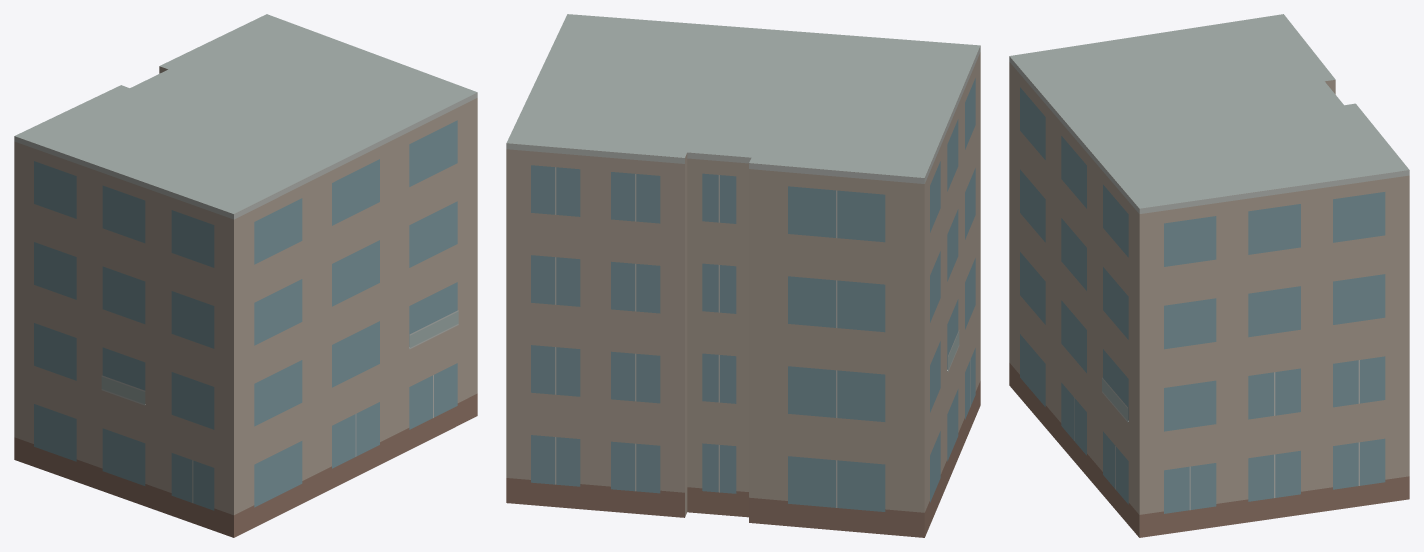
The model's file is survey-upis-32749283.glb.
The picture shows the model from 3 angles, left to right: view 1: azimuth 30°, elevation 25°; view 2: azimuth 150°, elevation 25°; view 3: azimuth 270°, elevation 25°; orthographic projection. The views are drawn at different scales.
Visible parts, largest first — view 1: survey-upis-32749283.tmp; view 2: survey-upis-32749283.tmp; view 3: survey-upis-32749283.tmp.
Boxes of the visible parts, left/top/right/bottom form: survey-upis-32749283.tmp: left=14, top=14, right=477, bottom=537; survey-upis-32749283.tmp: left=506, top=14, right=980, bottom=537; survey-upis-32749283.tmp: left=1009, top=14, right=1409, bottom=537.
Size of the model in its own units: 18.57 by 14.63 by 16.14.
